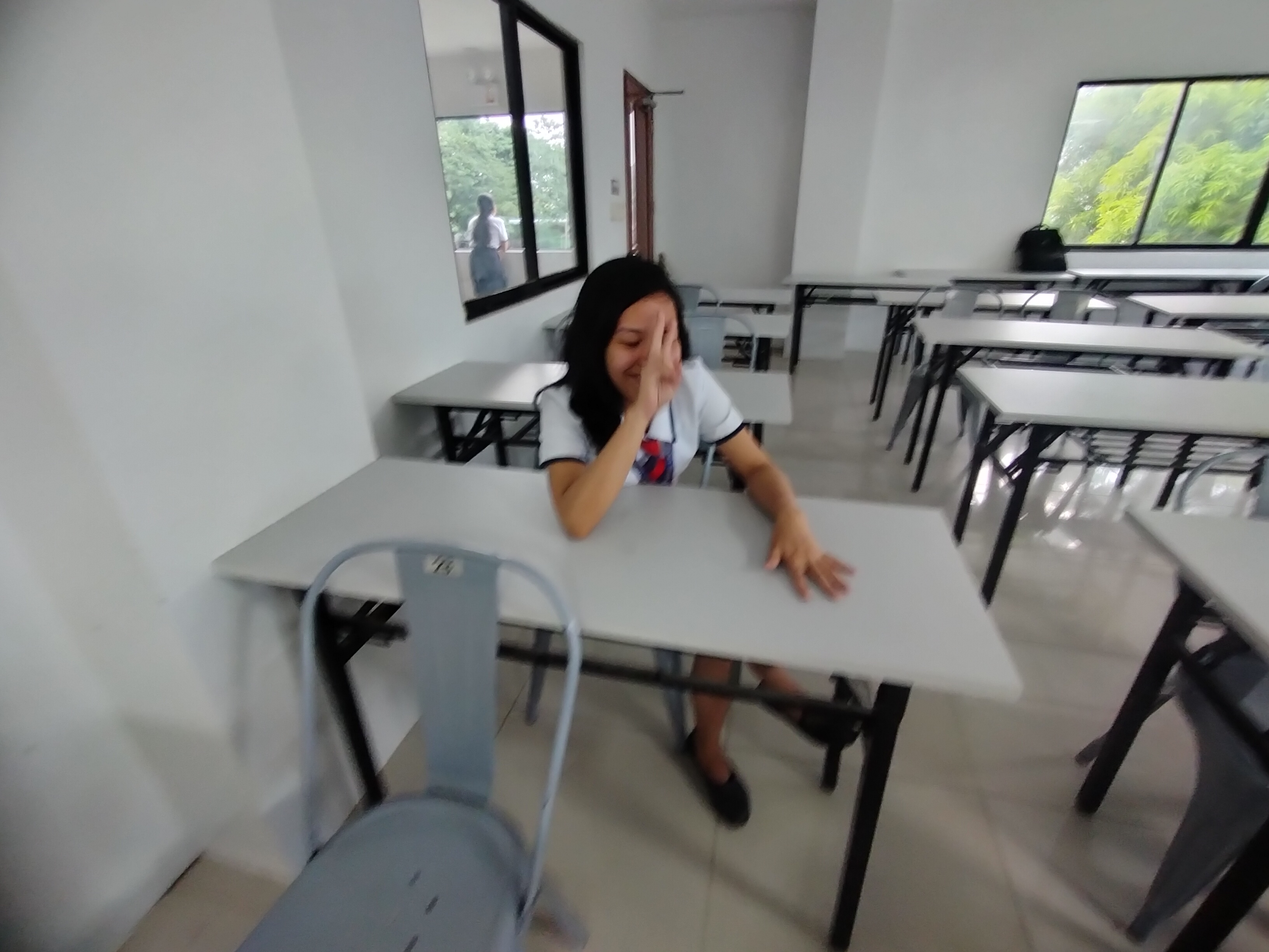with-student: (212, 244, 1024, 754)
